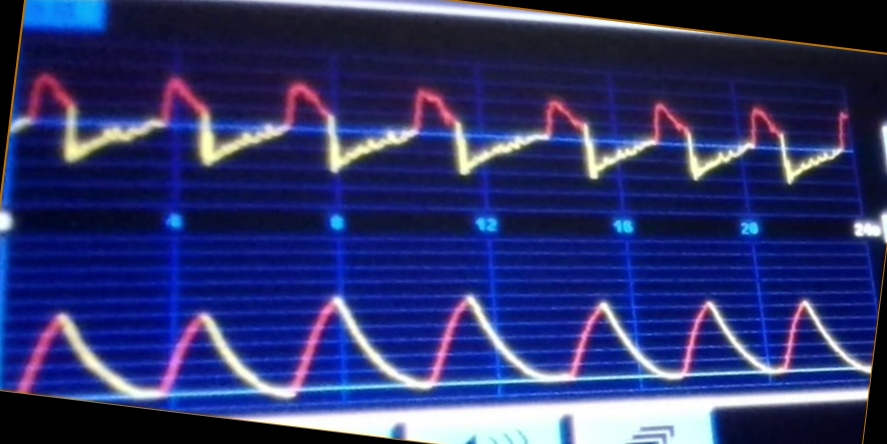Accumulation Flow: (16, 65, 848, 211)
Volume: (19, 283, 866, 400)
